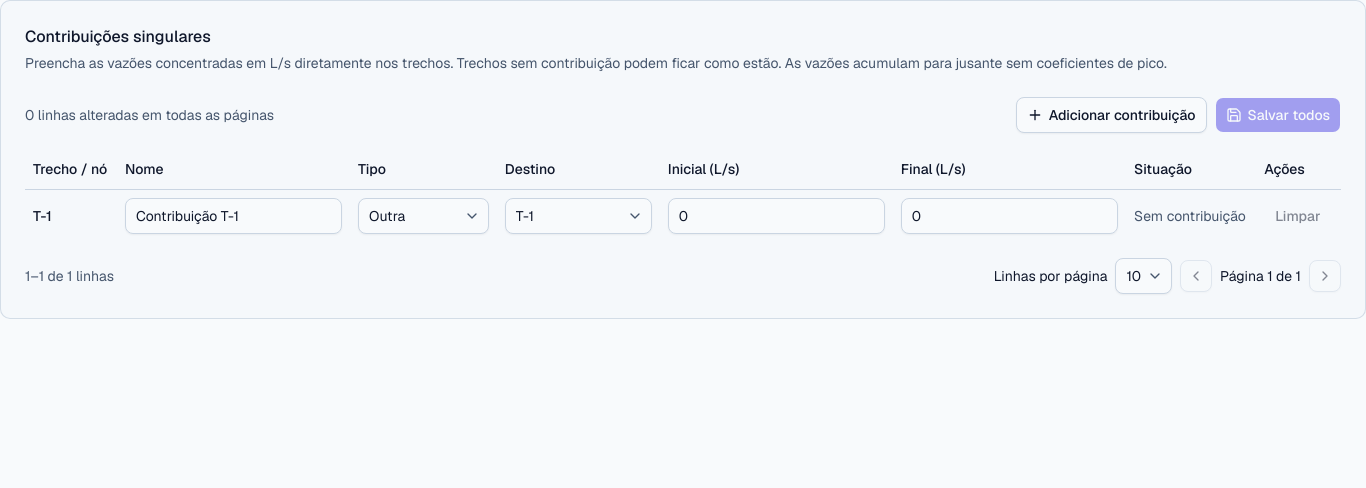
Test case: contribution grid › adds an extra contribution targeted at a node and saves it with the grid
Click the button "Adicionar contribuição" at (1111, 115), box [1016, 97, 1206, 133]
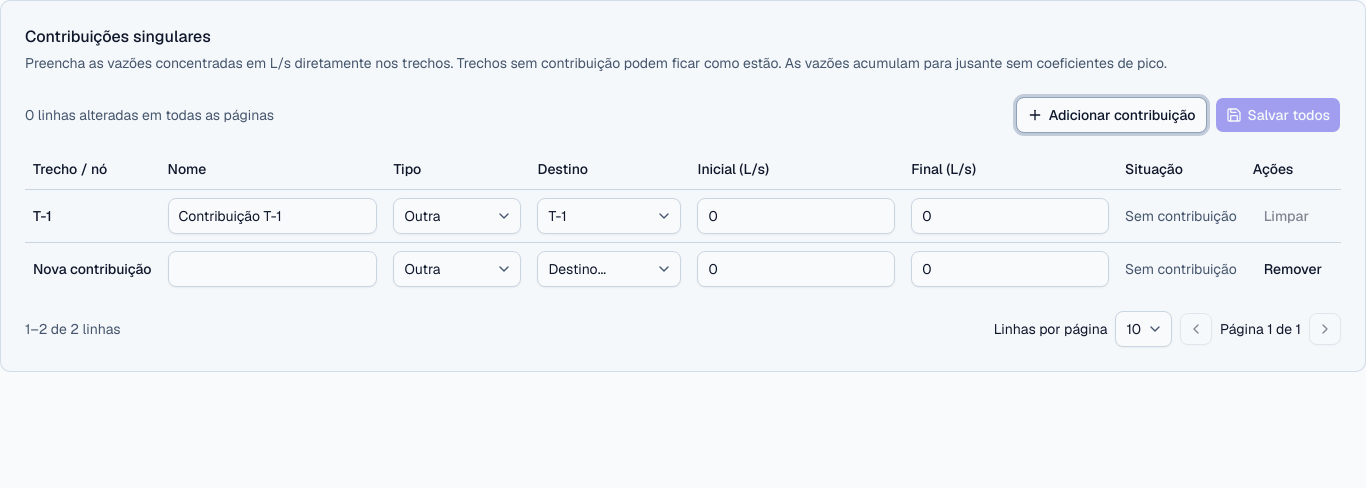
Type "Escola" into the field named "Nome da contribuição Nova contribuição" at (272, 268), box [168, 250, 377, 286]
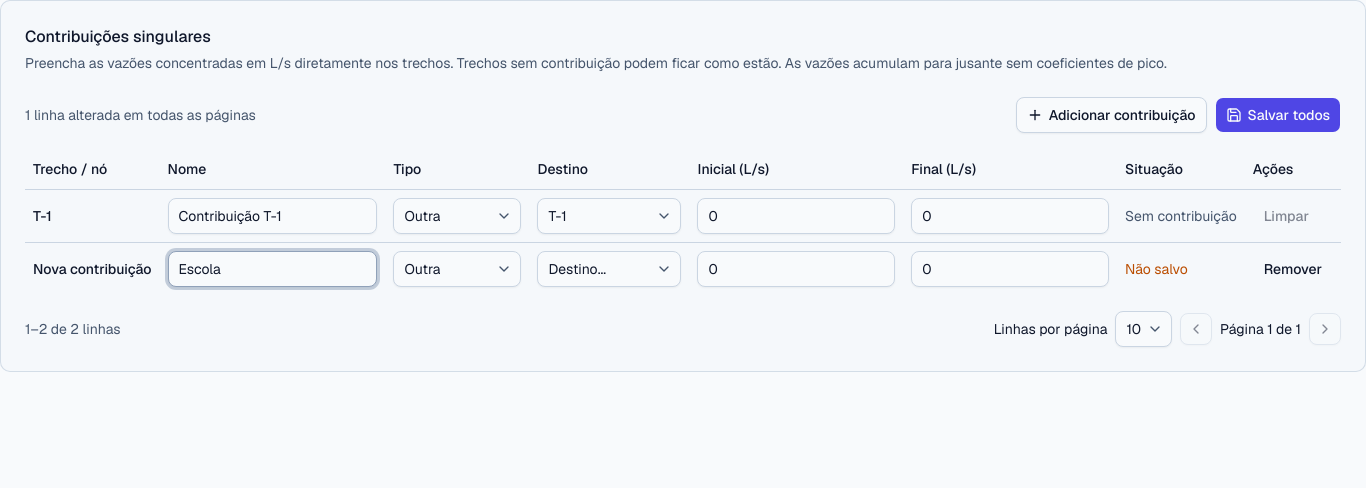
Click the dropdown named "Destino da contribuição Nova contribuição" at (609, 268), box [537, 250, 681, 286]
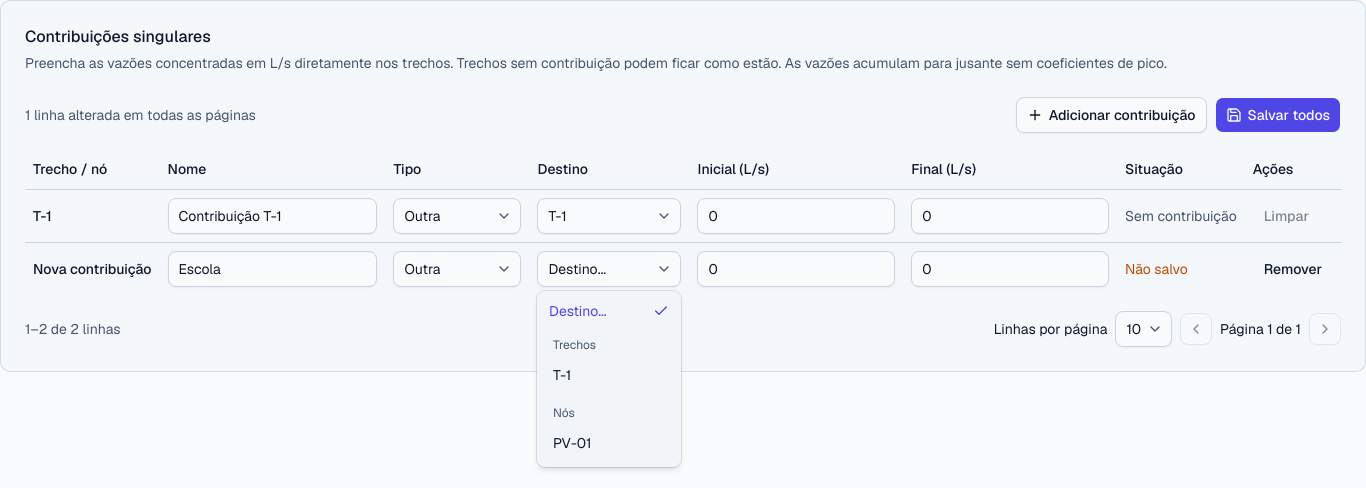
Click the option "PV-01" at (572, 443), box [553, 434, 591, 452]
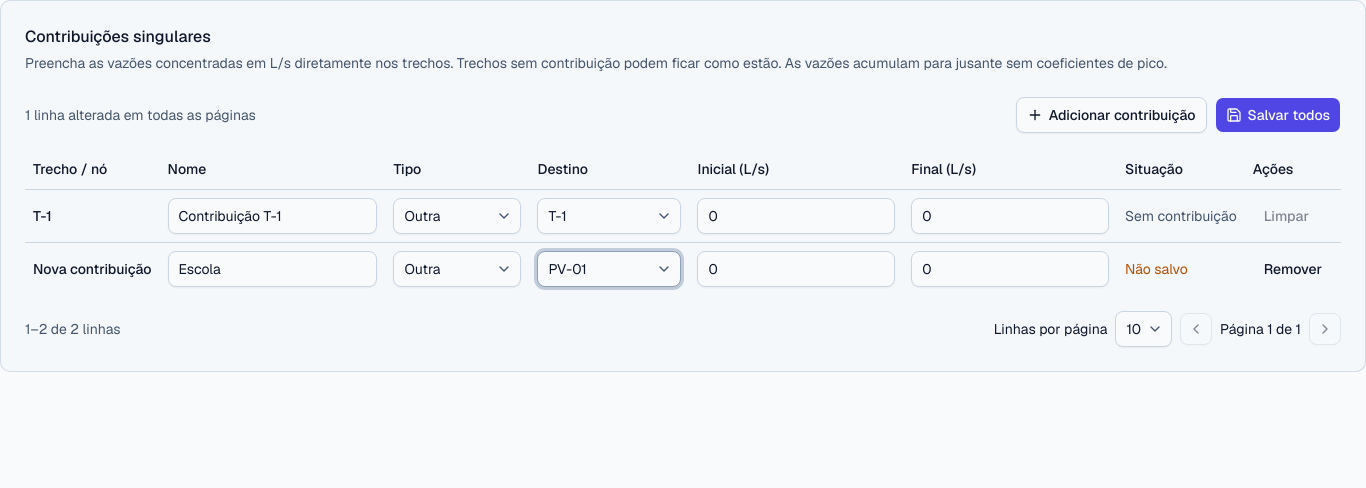
Type "3" into the number field named "Vazão final (L/s) Nova contribuição" at (1010, 268), box [911, 250, 1109, 286]
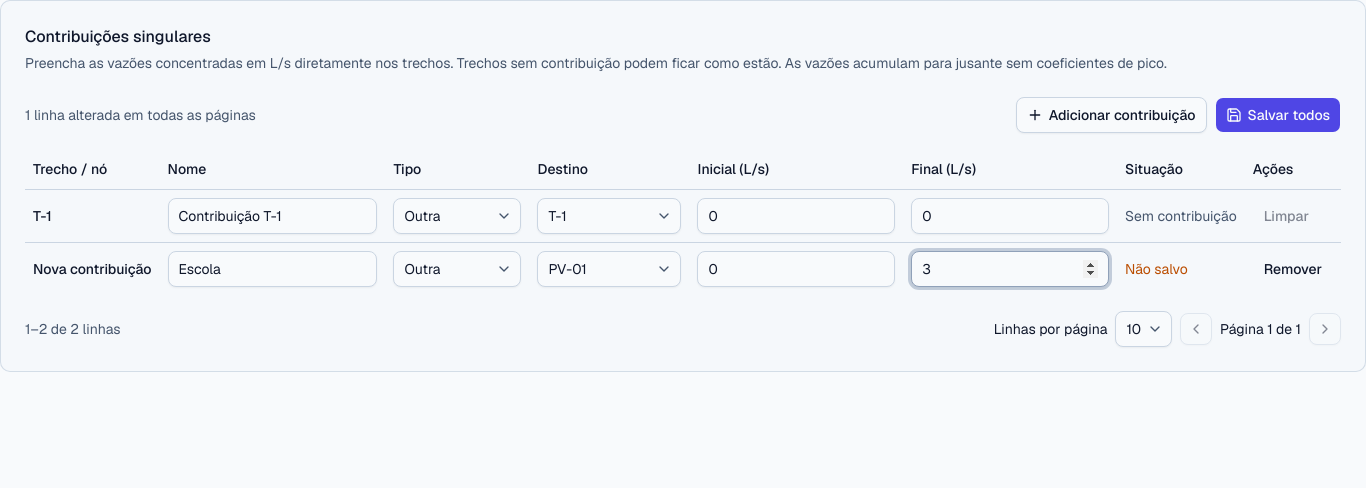
Click the button "Salvar todos" at (1278, 115), box [1214, 97, 1341, 133]
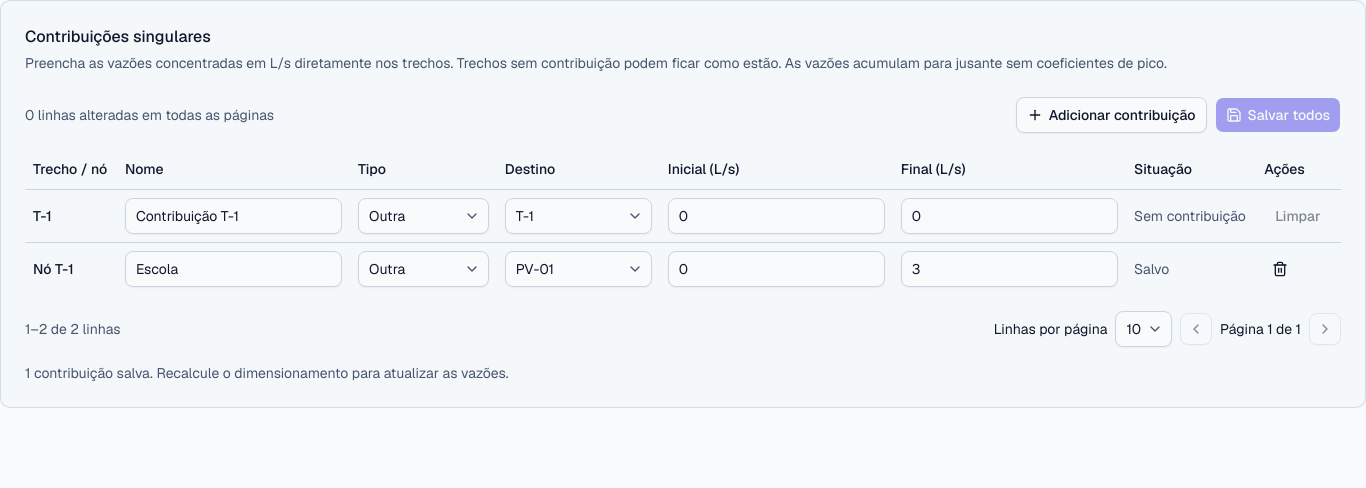
Check: the text "1 contribuição salva. Recalcule o dimensionamento para atualizar as vazões." is shown, box [25, 364, 508, 382]
